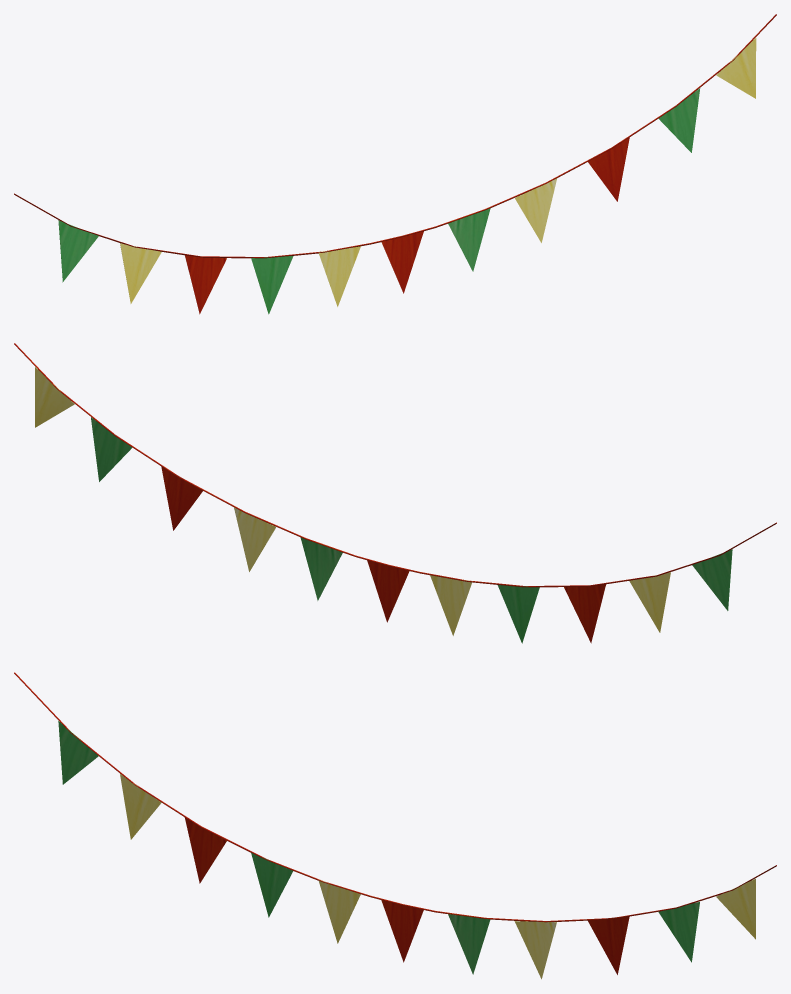
The model's file is Flags.FBX.
3 renders of one model, top to bottom at view 1: azimuth 30°, elevation 25°; view 2: azimuth 150°, elevation 25°; view 3: azimuth 330°, elevation 25°, orthographic.
Parts seen in each view (by area): view 1: Flags; view 2: Flags; view 3: Flags.
Part boxes in pixels (bbox=[...]): Flags: bbox=[14, 14, 776, 314]; Flags: bbox=[14, 343, 776, 643]; Flags: bbox=[14, 672, 776, 979].
Size of the model in its own units: 256 by 62.6 by 0.4541.
